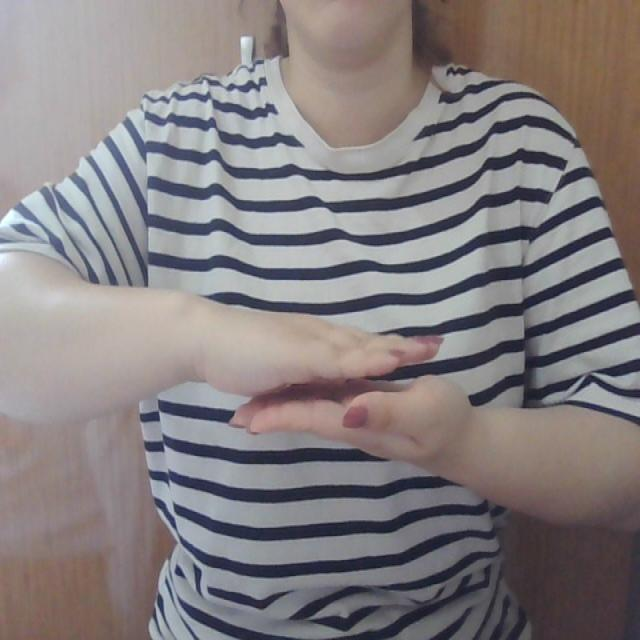Arkadas: (165, 299, 532, 464)
